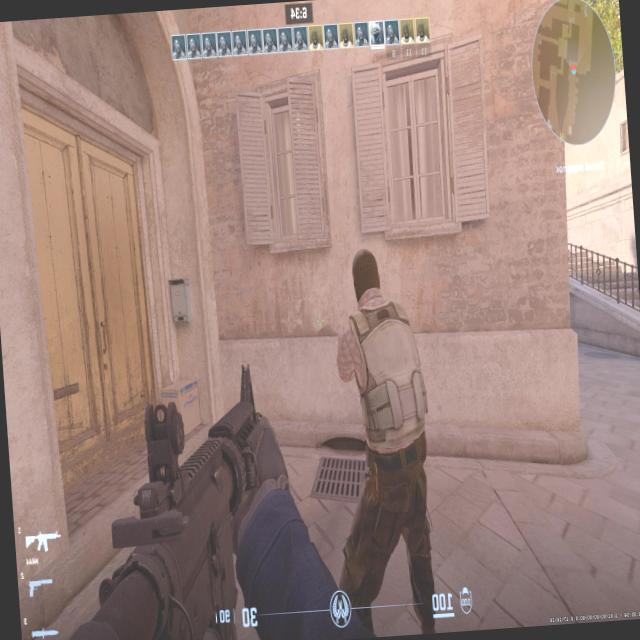T: (341, 256, 424, 605)
T_heat: (359, 270, 378, 316)
